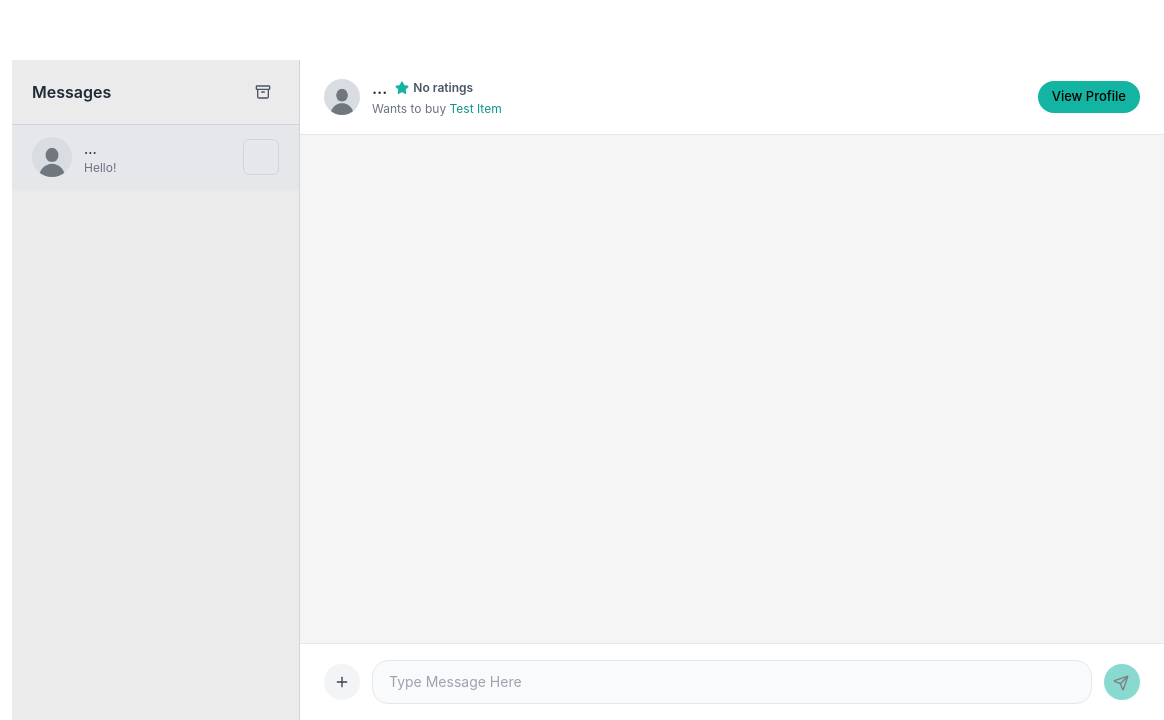
Test: ChatLayout › shows 'Close Deal' menu option after the Actions (+) button is clicked
What coordinates should you click on to do the following:
click the button titled "Actions"
I would click on:
 (342, 682)
Its box is [324, 664, 360, 700].
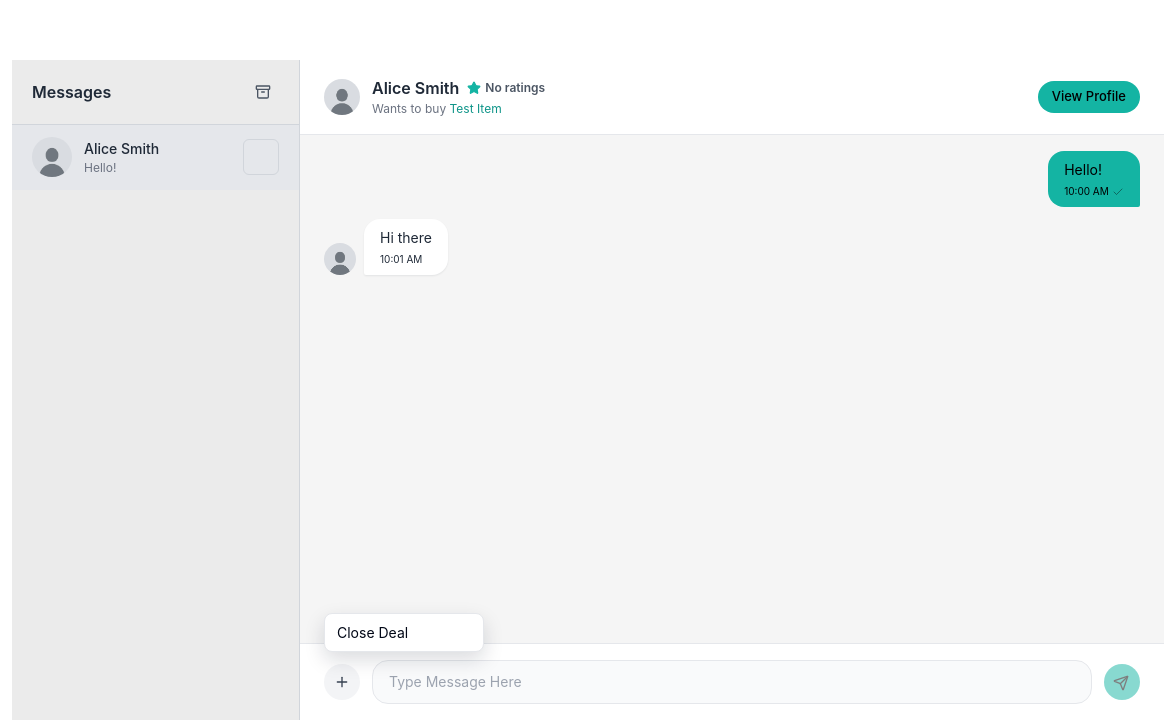
expect the button "Close Deal" is shown: met, box [325, 614, 483, 651]
